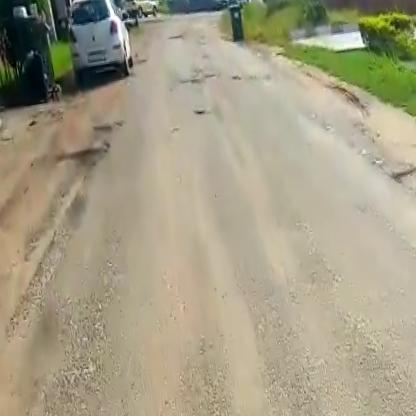pothole: (393, 165, 416, 195)
